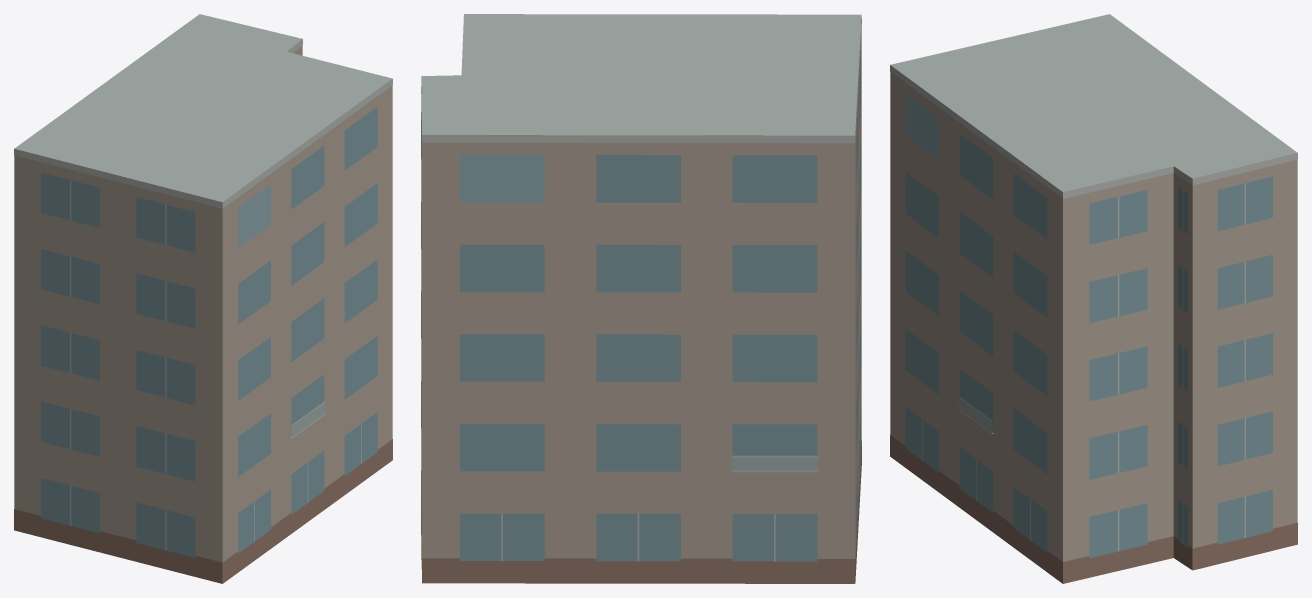
Rendered from survey-upis-32745799.glb.
3 renders of one model, left to right at view 1: azimuth 30°, elevation 25°; view 2: azimuth 150°, elevation 25°; view 3: azimuth 270°, elevation 25°, orthographic. The views are drawn at different scales.
Visible parts, largest first — view 1: survey-upis-32745799.tmp; view 2: survey-upis-32745799.tmp; view 3: survey-upis-32745799.tmp.
Boxes of the visible parts, x1,y1,x2,y2 form: survey-upis-32745799.tmp: (14, 14, 392, 583); survey-upis-32745799.tmp: (421, 14, 861, 583); survey-upis-32745799.tmp: (890, 14, 1297, 583).
Size of the model in its own units: 13.96 by 14.3 by 13.5.
